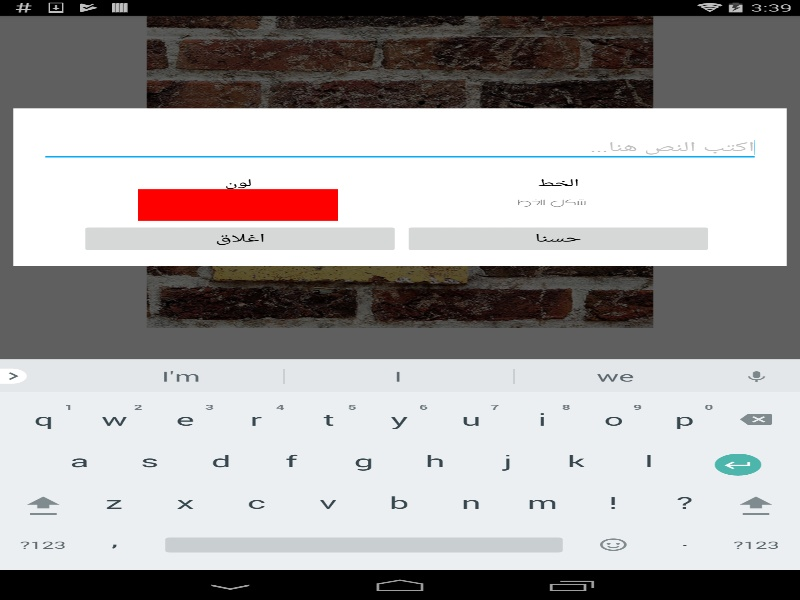Button: (80, 223, 400, 253), (403, 223, 713, 253), (138, 189, 338, 220)
Input: (40, 133, 760, 161)
